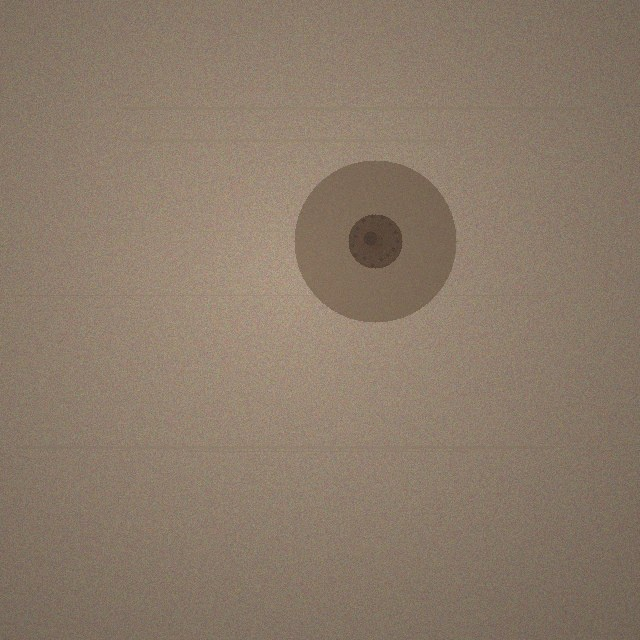cold_weld: (294, 160, 456, 322)
